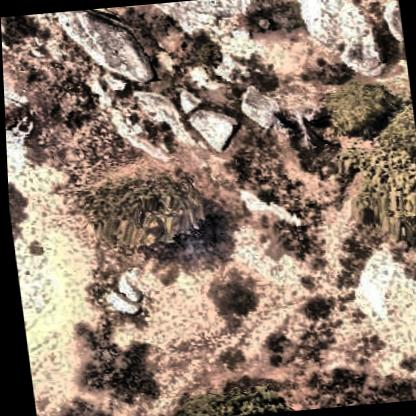tree-top: (84, 140, 208, 267), (331, 121, 416, 257), (314, 70, 401, 145), (166, 379, 296, 416)
